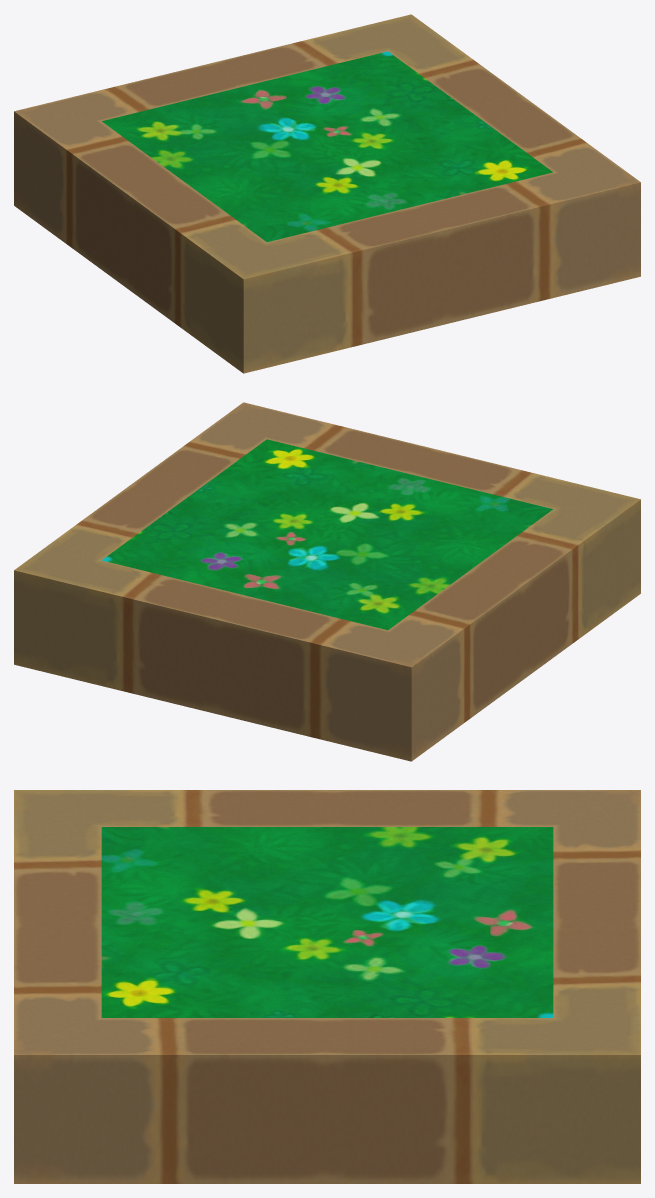
File: Plant02_d01.FBX
The picture shows the model from 3 angles, top to bottom: view 1: azimuth 30°, elevation 25°; view 2: azimuth 150°, elevation 25°; view 3: azimuth 270°, elevation 25°; orthographic projection. The views are drawn at different scales.
Visible parts, largest first — view 1: Plant02_d01; view 2: Plant02_d01; view 3: Plant02_d01.
Part boxes in pixels (x1,y1,x2,y2): Plant02_d01: (14, 14, 640, 373); Plant02_d01: (14, 402, 640, 761); Plant02_d01: (14, 790, 640, 1183).
Bounding box in the file's own units: 208 × 47.09 × 208.
Materials: 2 (2 with a texture image).
